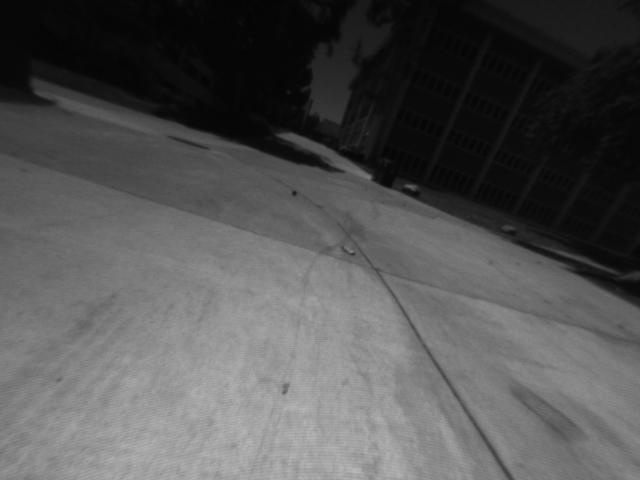dogtoy: (287, 185, 303, 200)
